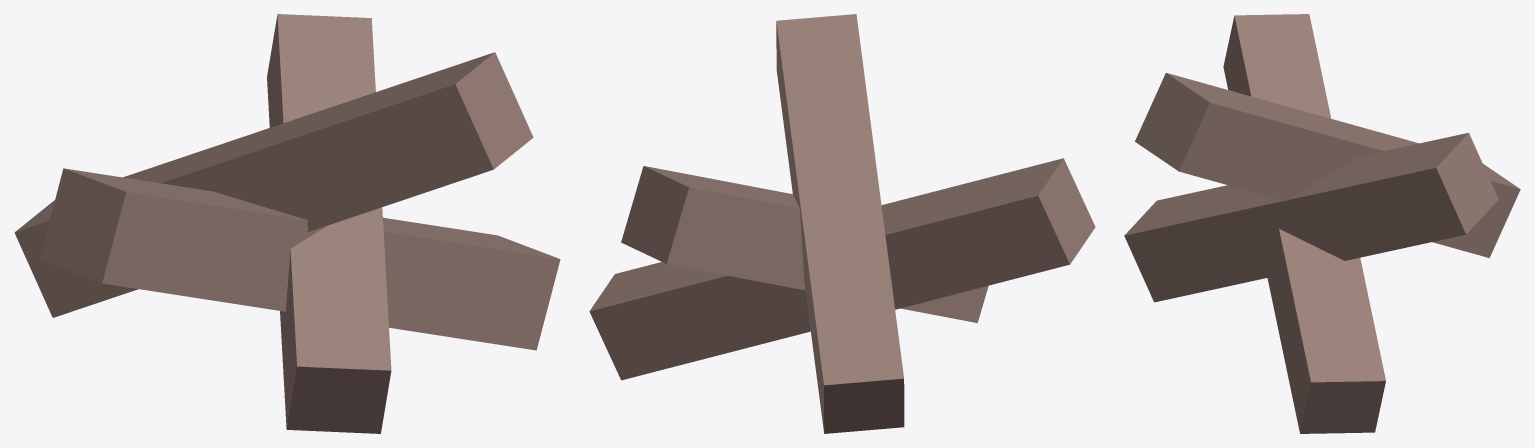
The model's file is Fire.fbx.
The picture shows the model from 3 angles, left to right: view 1: azimuth 30°, elevation 25°; view 2: azimuth 150°, elevation 25°; view 3: azimuth 270°, elevation 25°; orthographic projection. The views are drawn at different scales.
Visible parts, largest first — view 1: Fire; view 2: Fire; view 3: Fire.
Boxes of the visible parts, x1,y1,x2,y2 form: Fire: (14, 14, 560, 433); Fire: (589, 14, 1095, 433); Fire: (1124, 14, 1520, 433).
Bounding box in the file's own units: 1250 × 843 × 1005.
